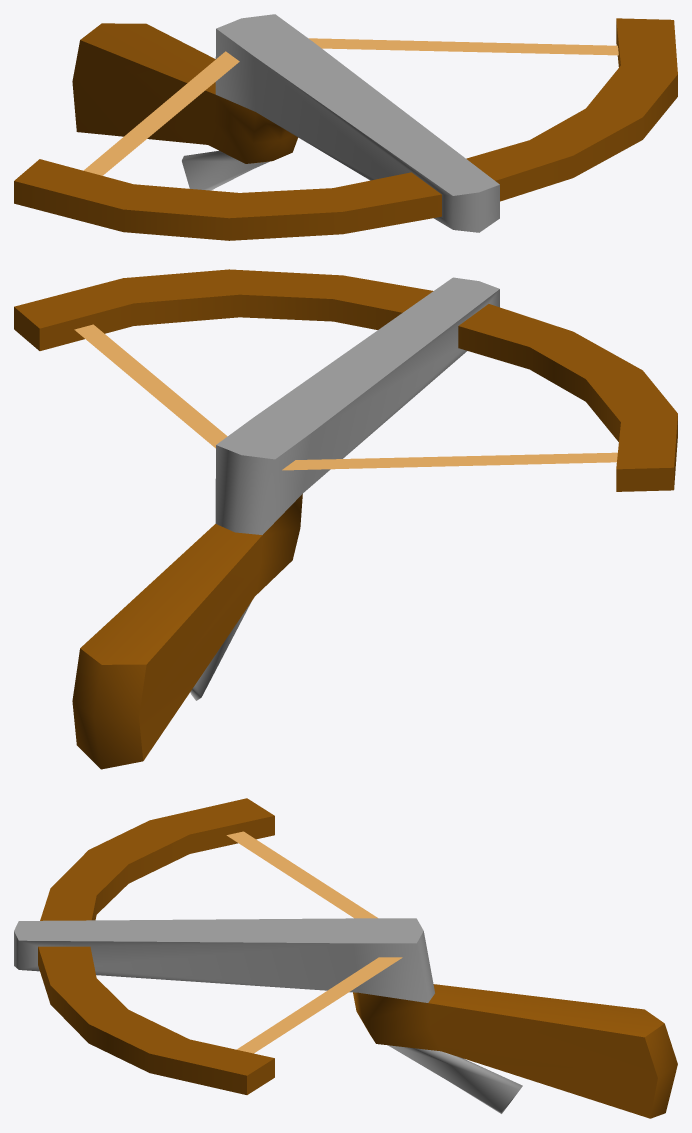
File: Crossbow_01.FBX
The picture shows the model from 3 angles, top to bottom: view 1: azimuth 30°, elevation 25°; view 2: azimuth 150°, elevation 25°; view 3: azimuth 270°, elevation 25°; orthographic projection. The views are drawn at different scales.
Parts seen in each view (by area): view 1: Crossbow_01; view 2: Crossbow_01; view 3: Crossbow_01.
Part boxes in pixels (box(x1,y1,x2,y2)): Crossbow_01: box(14, 14, 677, 240); Crossbow_01: box(14, 269, 677, 769); Crossbow_01: box(14, 798, 677, 1118).
Size of the model in its own units: 11.65 by 3.59 by 11.78.
